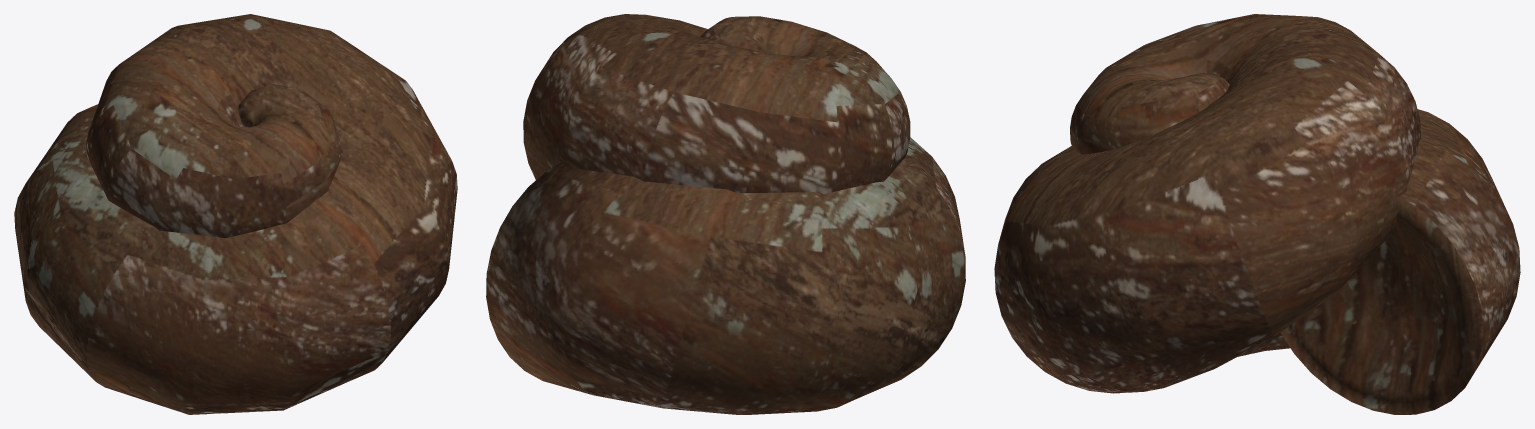
The model's file is shell.fbx.
3 renders of one model, left to right at view 1: azimuth 30°, elevation 25°; view 2: azimuth 150°, elevation 25°; view 3: azimuth 270°, elevation 25°, orthographic. The views are drawn at different scales.
Parts seen in each view (by area): view 1: Shell; view 2: Shell; view 3: Shell.
Boxes of the visible parts, x1,y1,x2,y2 form: Shell: (14,14,457,414); Shell: (486,14,965,414); Shell: (994,14,1520,414).
Size of the model in its own units: 974 by 792 by 1058.
Materials: 1 (1 with a texture image).
